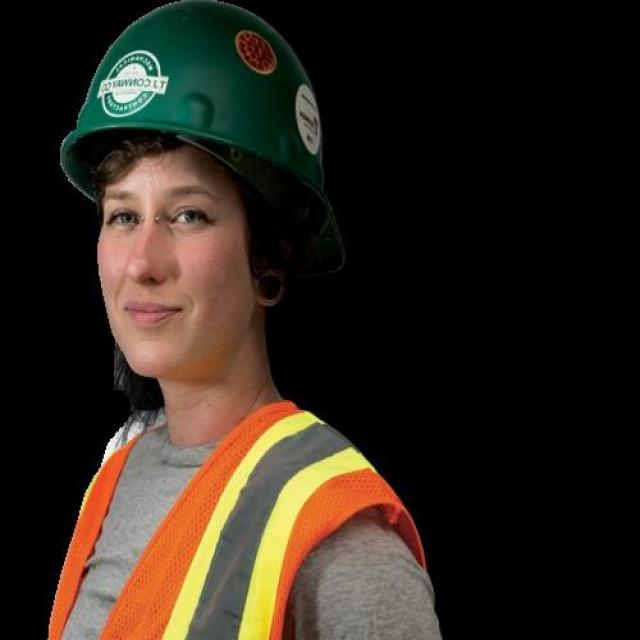Reflective-Jacket: (39, 399, 442, 630)
Safety-Helmet: (55, 4, 344, 199)
